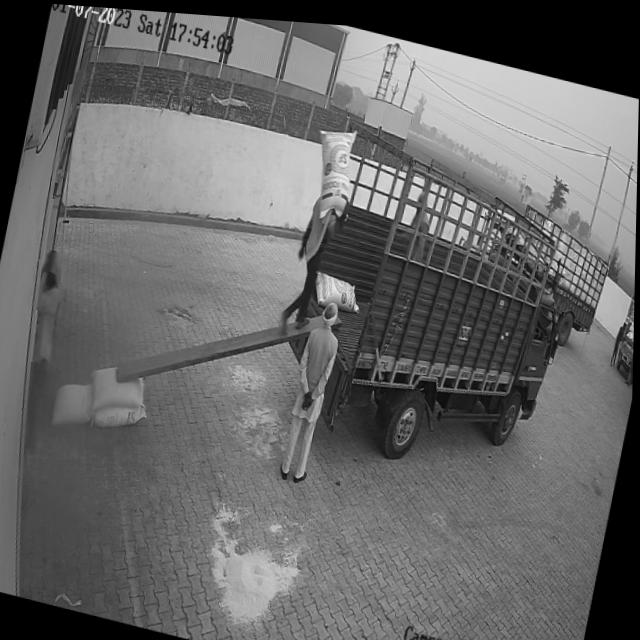sack: (304, 116, 361, 219), (87, 357, 150, 415), (51, 375, 98, 432), (311, 263, 366, 311), (92, 391, 149, 433)
